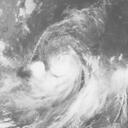cyclone: (47, 50, 83, 91)
